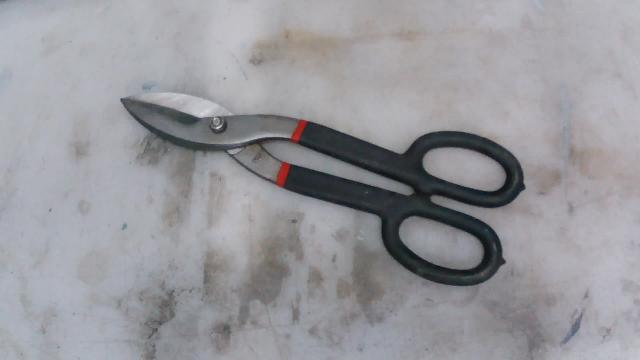gunting_plat: (105, 74, 539, 310)
